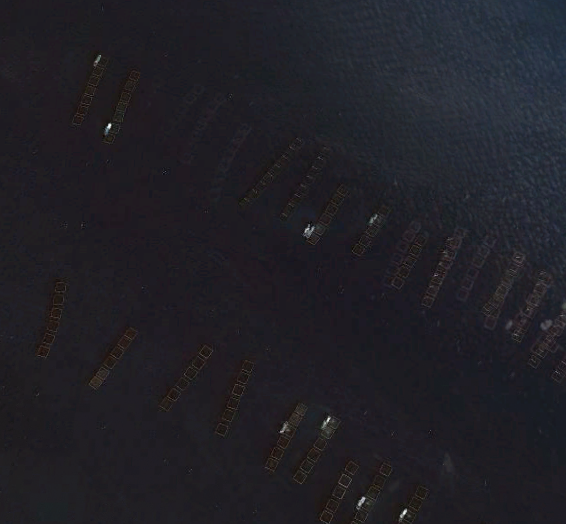square: (323, 413, 342, 433), (290, 468, 309, 487), (328, 482, 348, 500), (343, 458, 361, 477), (220, 406, 238, 424), (336, 471, 354, 489), (278, 421, 297, 438), (85, 374, 103, 391), (272, 433, 290, 450), (318, 423, 335, 441), (298, 459, 316, 476), (376, 461, 394, 478), (333, 182, 351, 199), (323, 493, 339, 512), (399, 507, 418, 523), (285, 410, 302, 427), (358, 497, 375, 514), (293, 400, 309, 418), (312, 436, 328, 453), (371, 472, 387, 489), (365, 484, 381, 501), (414, 485, 431, 501), (304, 232, 321, 248), (525, 352, 542, 368), (199, 342, 214, 360), (371, 213, 386, 231), (108, 344, 124, 360), (101, 355, 117, 371), (182, 365, 198, 381), (157, 397, 173, 413), (235, 368, 251, 384), (214, 420, 230, 436), (262, 457, 278, 473), (483, 312, 498, 329), (307, 446, 321, 464), (35, 344, 51, 359), (116, 335, 132, 350), (166, 386, 181, 402), (231, 381, 246, 397), (420, 294, 435, 310), (328, 191, 343, 207), (324, 203, 339, 219), (310, 220, 325, 236), (267, 447, 284, 461), (431, 271, 445, 288), (426, 283, 440, 300), (319, 509, 334, 524), (482, 233, 497, 248), (454, 287, 469, 302), (436, 258, 451, 273), (396, 266, 411, 281), (191, 355, 207, 369), (176, 376, 190, 392), (227, 395, 241, 411), (408, 496, 422, 512), (472, 253, 486, 269), (392, 275, 406, 291), (512, 248, 526, 264), (242, 357, 255, 374), (404, 254, 417, 271), (366, 222, 379, 239), (410, 241, 422, 259), (50, 292, 65, 306), (48, 307, 63, 321), (95, 367, 110, 381), (460, 276, 474, 291), (108, 112, 127, 123), (124, 327, 140, 340), (277, 152, 290, 168), (477, 244, 491, 258), (352, 243, 366, 257), (290, 191, 304, 205), (73, 104, 88, 117), (107, 122, 122, 135), (102, 132, 117, 145), (41, 332, 56, 345), (447, 234, 462, 247), (358, 233, 371, 248), (320, 213, 332, 229), (54, 280, 68, 293), (467, 266, 480, 280), (319, 145, 332, 159), (314, 154, 327, 168), (302, 174, 315, 188), (282, 201, 295, 215), (290, 135, 303, 149), (284, 147, 297, 161), (445, 245, 457, 260), (378, 205, 390, 220), (248, 189, 260, 204), (112, 101, 128, 112), (452, 226, 465, 239), (414, 233, 427, 246), (296, 185, 309, 198), (82, 84, 96, 96), (127, 69, 141, 81), (118, 89, 130, 103), (45, 321, 59, 333), (263, 170, 275, 184), (70, 115, 85, 126), (310, 164, 321, 179), (256, 179, 267, 194), (95, 55, 108, 67), (79, 94, 92, 106), (124, 78, 136, 91), (270, 161, 282, 174), (90, 65, 103, 76), (86, 75, 99, 86)
